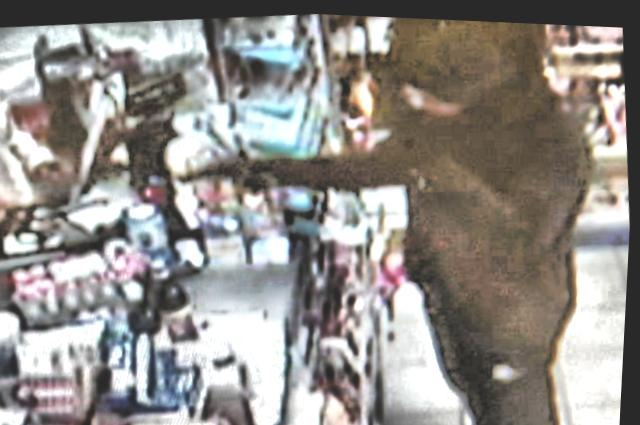pistol: (171, 141, 258, 209)
